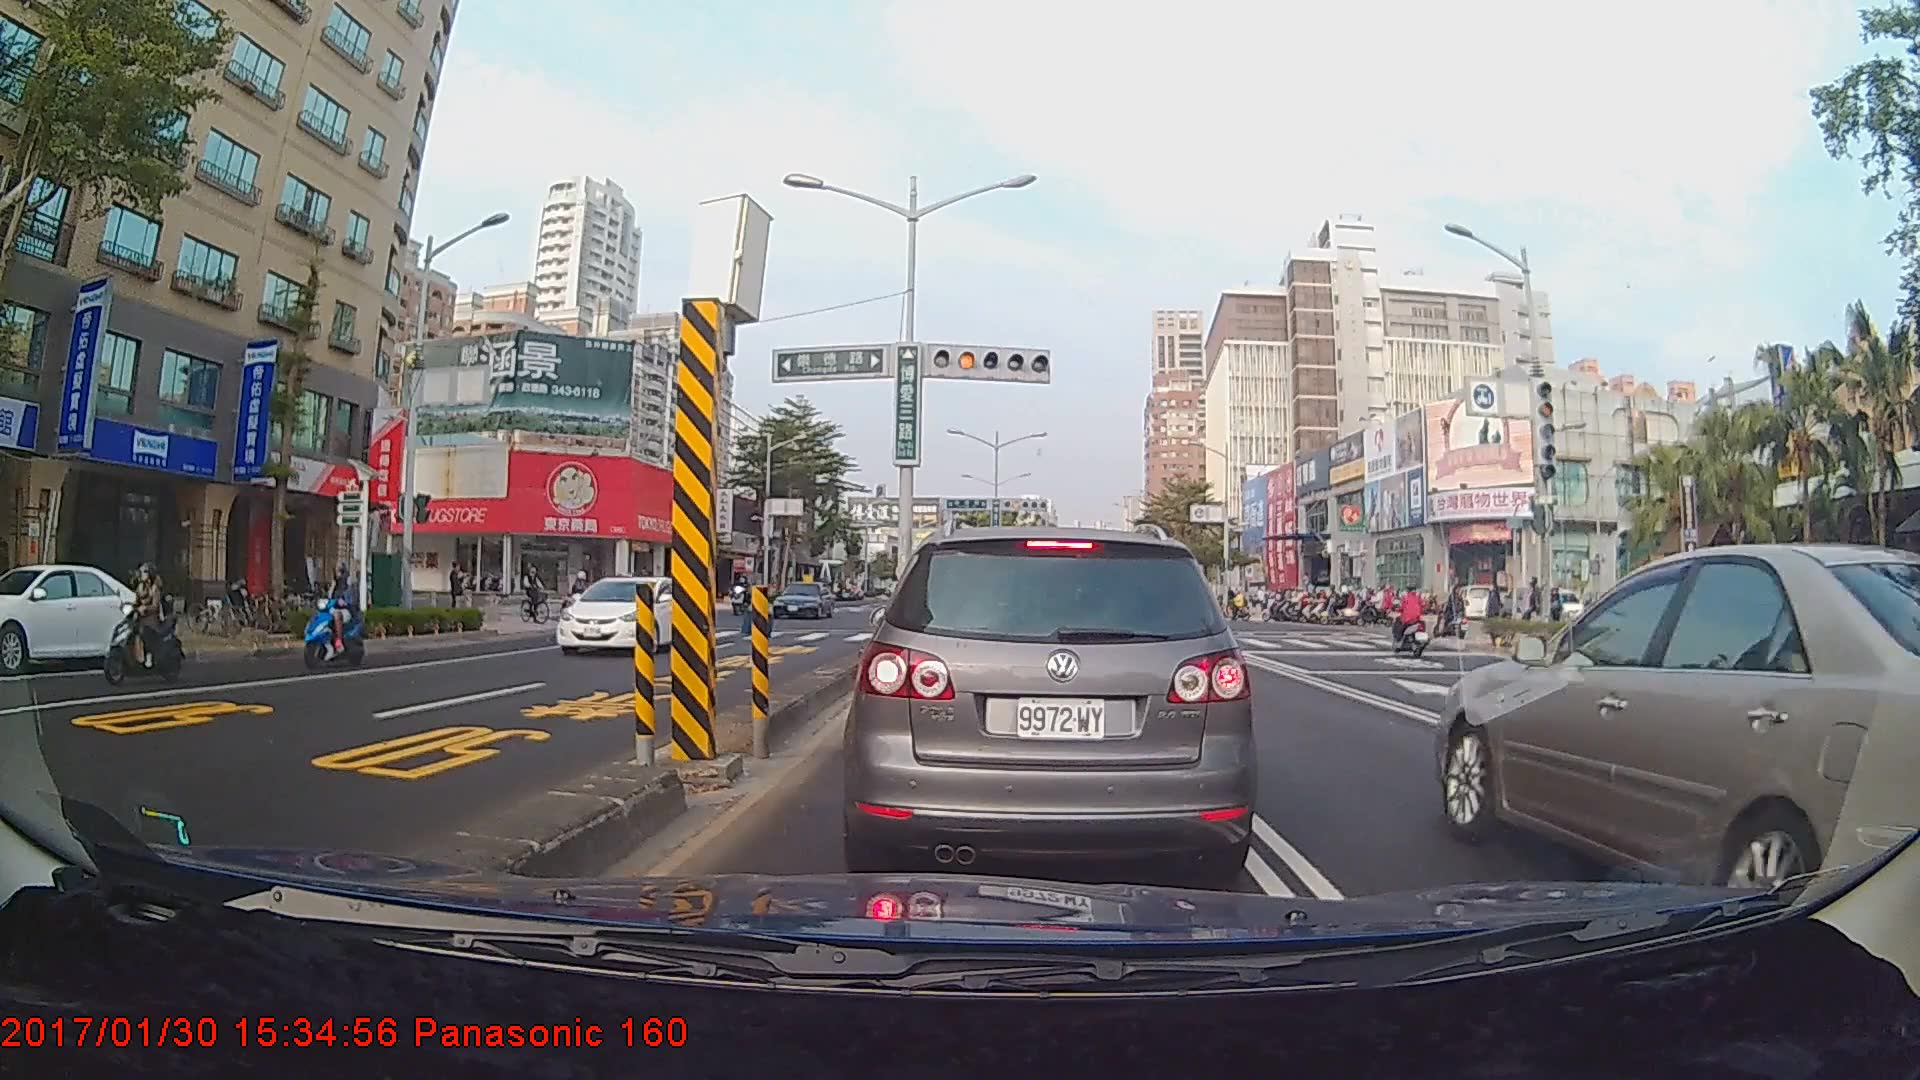pedestrian: (1484, 579, 1508, 637), (448, 558, 468, 621)
rider: (97, 562, 190, 692), (298, 552, 370, 681), (1386, 582, 1439, 671), (518, 559, 553, 629), (1436, 582, 1473, 646)
vehicle: (1431, 541, 1920, 966), (855, 522, 1249, 880), (0, 561, 177, 671), (554, 572, 696, 656), (771, 578, 833, 620)
